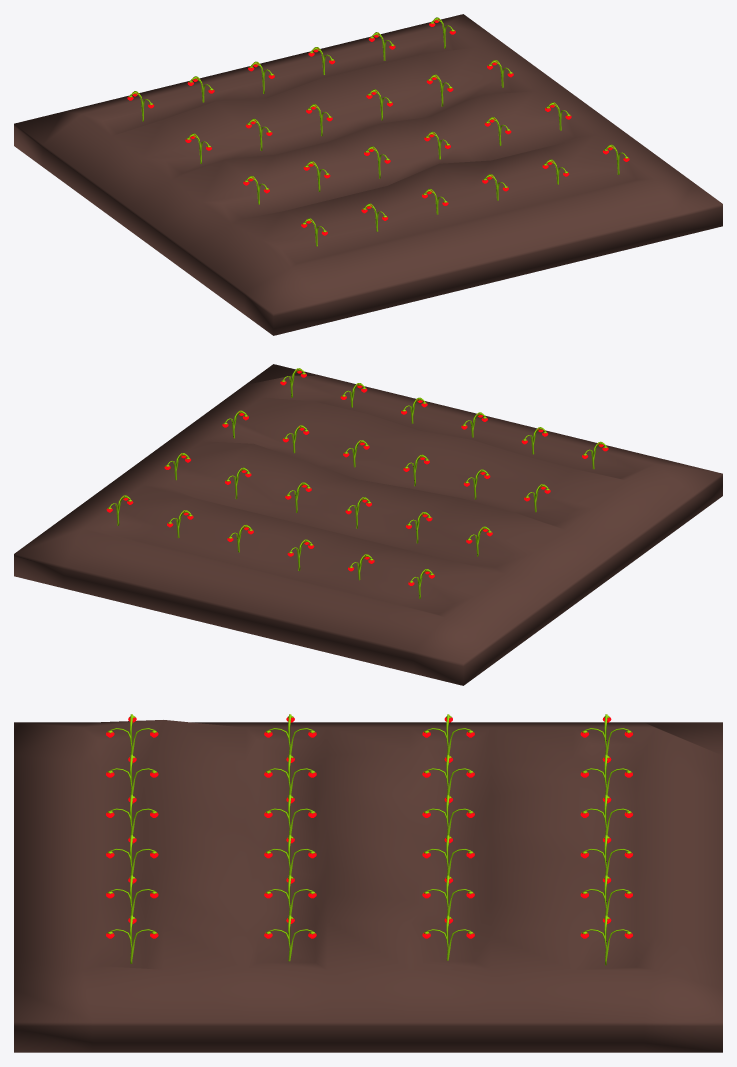
Rendered from TheTomatoFarm.fbx.
3 views of the same model, one above another, from view 1: azimuth 30°, elevation 25°; view 2: azimuth 150°, elevation 25°; view 3: azimuth 270°, elevation 25° (orthographic). The views are drawn at different scales.
Visible parts, largest first — view 1: Plane.025, Plane.002; view 2: Plane.025, Plane.002; view 3: Plane.025, Plane.002.
Part boxes in pixels (x1,y1,x2,y2): Plane.025: (14,14,722,335); Plane.002: (127,17,629,246); Plane.025: (14,364,722,685); Plane.002: (106,368,608,598); Plane.025: (14,720,722,1052); Plane.002: (106,714,632,965).
Bounding box in the file's own units: 2457 × 343 × 2457.
